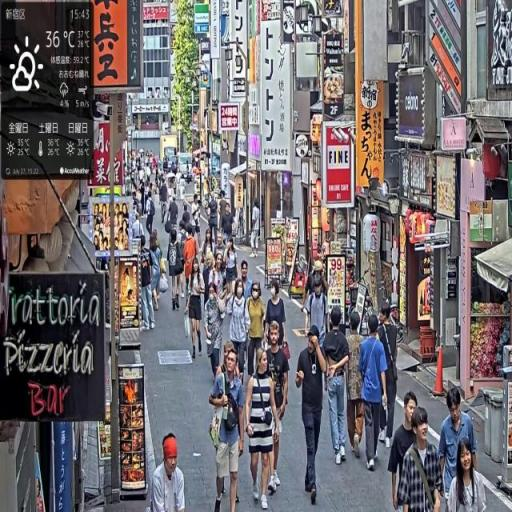person: (295, 324, 332, 509), (245, 347, 284, 512), (210, 346, 246, 512), (322, 305, 352, 472), (439, 387, 480, 504), (264, 320, 291, 494), (359, 317, 389, 473), (400, 406, 444, 512), (388, 390, 420, 512), (376, 305, 401, 448), (447, 439, 489, 512), (345, 311, 365, 459), (150, 433, 187, 512), (227, 275, 253, 385), (206, 279, 227, 390), (247, 281, 268, 388), (186, 256, 206, 362), (264, 278, 288, 355), (139, 238, 157, 334), (168, 231, 185, 313), (150, 232, 164, 315), (208, 189, 221, 250), (160, 179, 170, 226)
